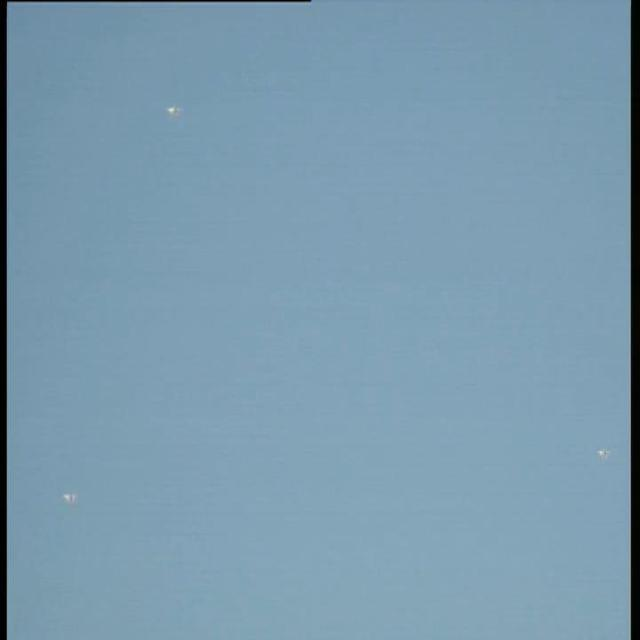drone: (590, 438, 617, 467), (162, 98, 188, 120), (57, 486, 83, 504)
